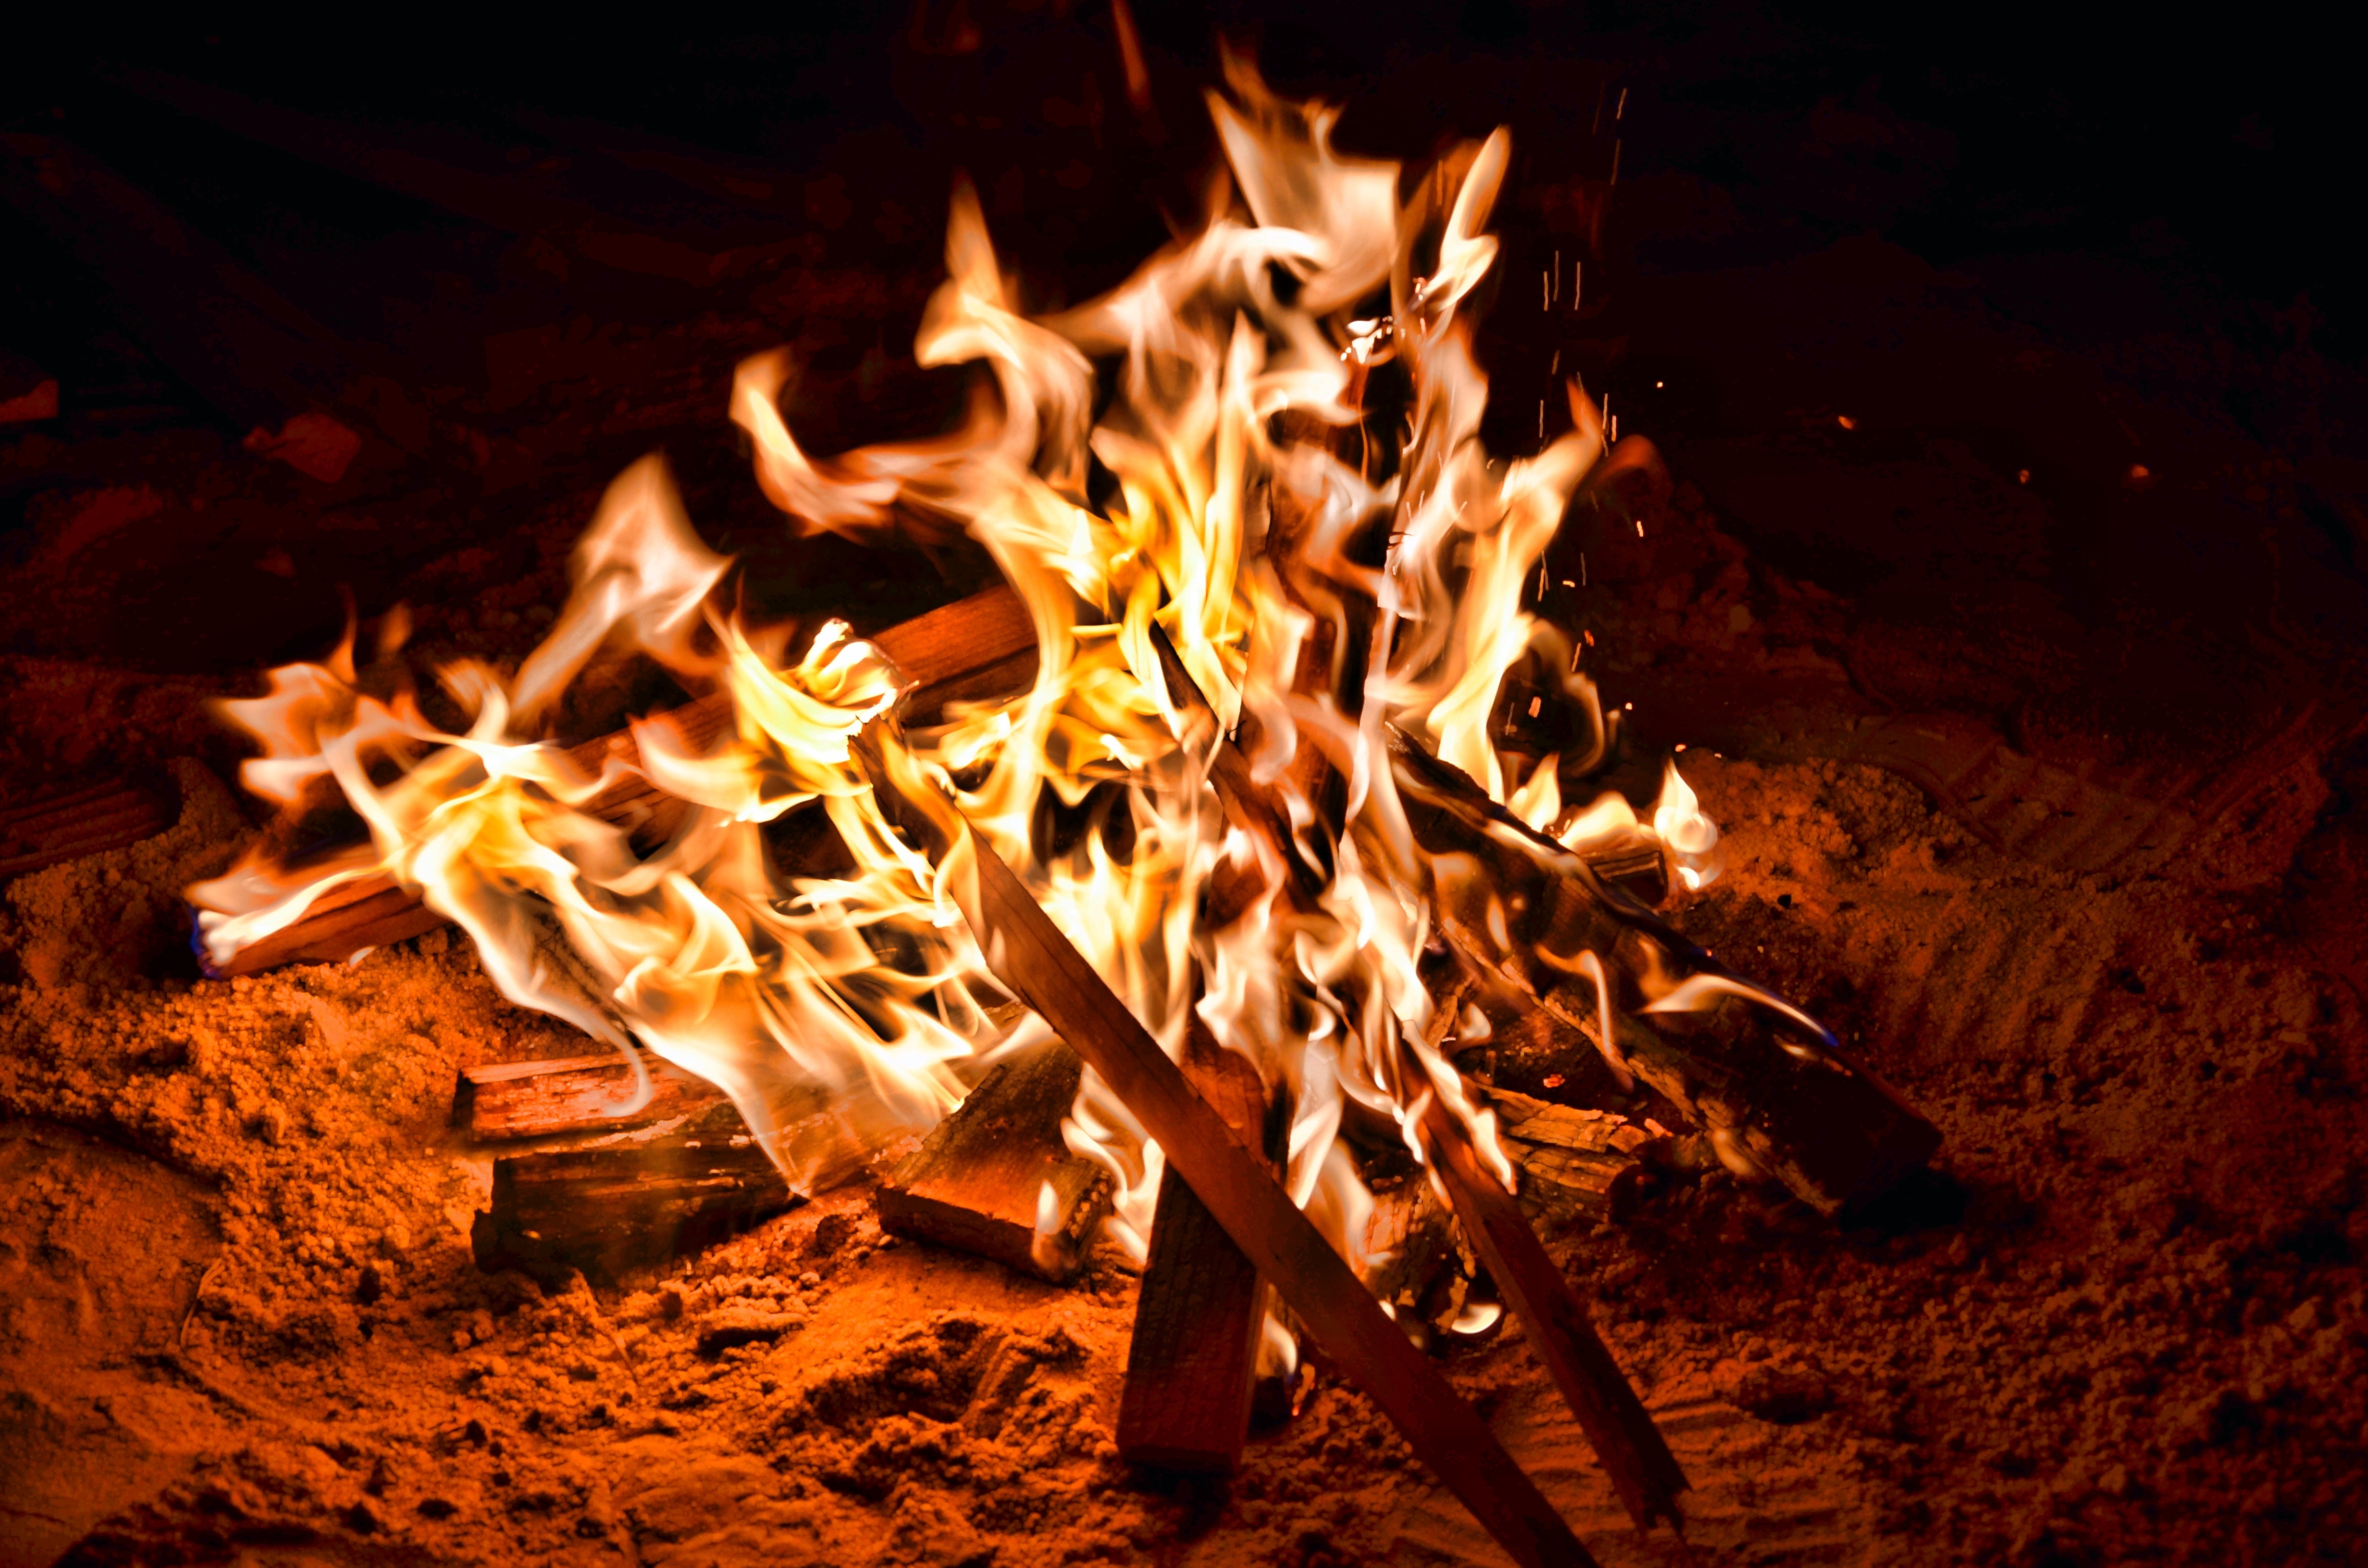fire: (200, 61, 1720, 1363)
